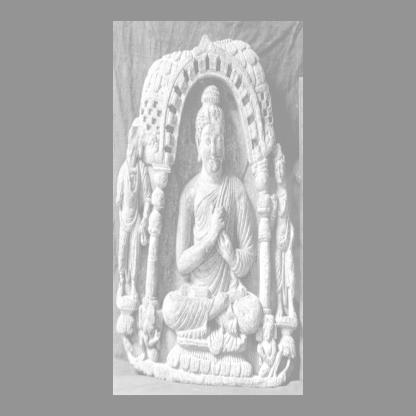buddha-sitting: (162, 87, 262, 378)
